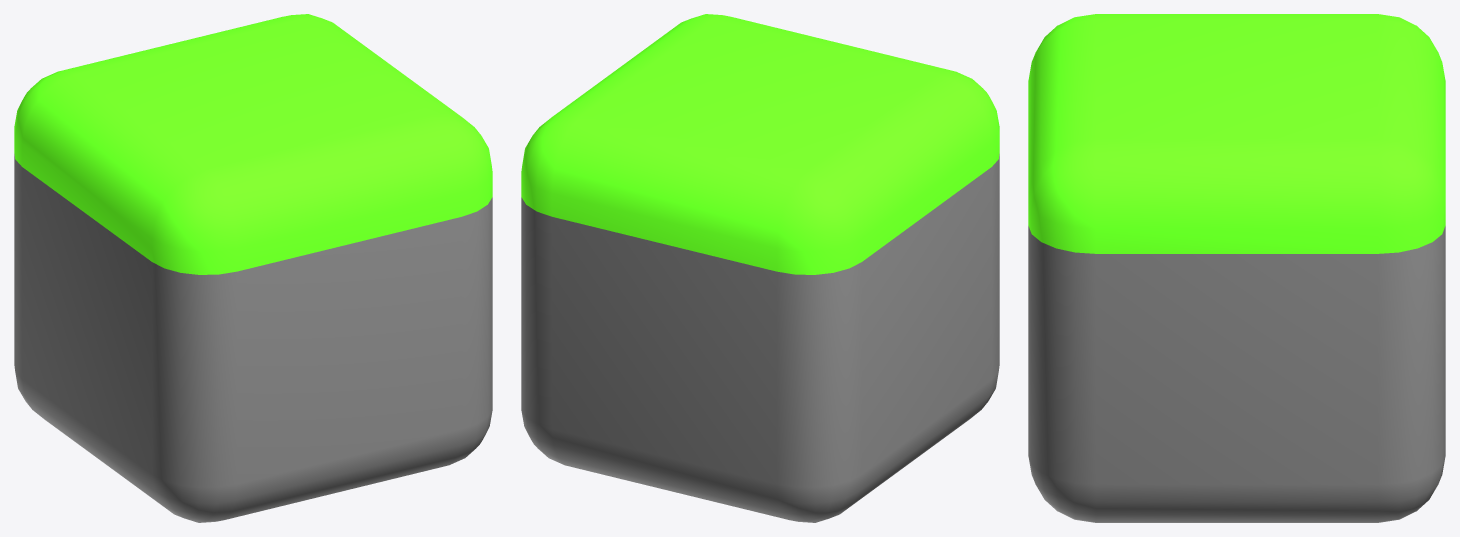
3 views of the same model, side by side, from view 1: azimuth 30°, elevation 25°; view 2: azimuth 150°, elevation 25°; view 3: azimuth 270°, elevation 25° (orthographic). The views are drawn at different scales.
Parts seen in each view (by area): view 1: Cube_3; view 2: Cube_3; view 3: Cube_3.
Part boxes in pixels (x1,y1,x2,y2): Cube_3: (14,14,492,522); Cube_3: (521,14,999,522); Cube_3: (1028,14,1445,522).
Bounding box in the file's own units: 100 × 100 × 100.
